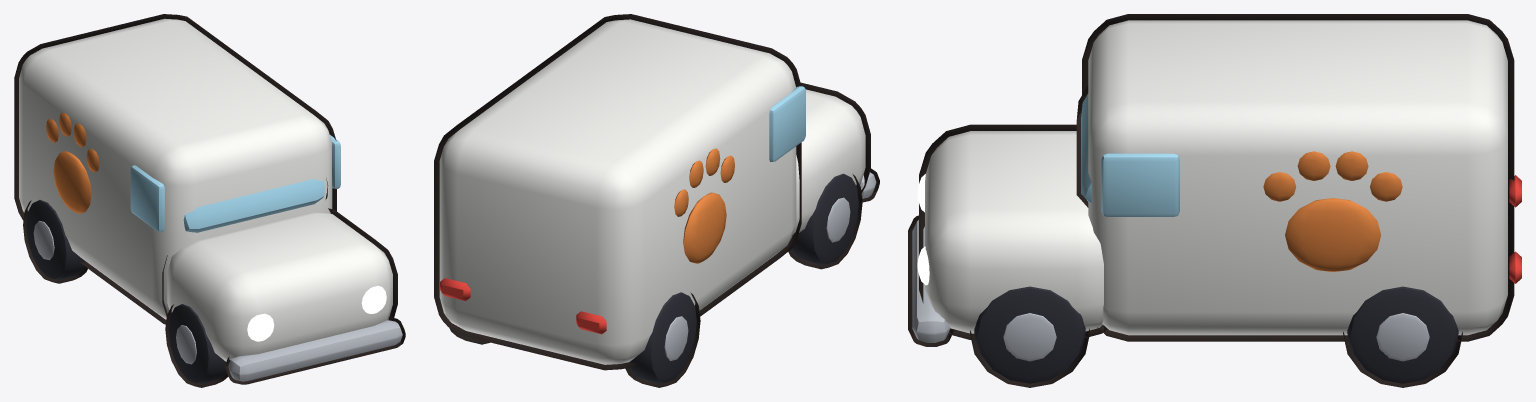
Rendered from Van_Delivery.fbx.
The picture shows the model from 3 angles, left to right: view 1: azimuth 30°, elevation 25°; view 2: azimuth 150°, elevation 25°; view 3: azimuth 270°, elevation 25°; orthographic projection. The views are drawn at different scales.
Visible parts, largest first — view 1: VH_Van_Delivery_White, VH_Van_Delivery_Outline, VH_Van_Delivery_Window, VH_Van_Delivery_MetalLight, VH_Van_Delivery_Black, VH_Van_Delivery_RoofOrange, VH_Van_Delivery_LampWarm; view 2: VH_Van_Delivery_White, VH_Van_Delivery_Outline, VH_Van_Delivery_Black, VH_Van_Delivery_RoofOrange, VH_Van_Delivery_Window, VH_Van_Delivery_MetalLight, VH_Van_Delivery_Red; view 3: VH_Van_Delivery_White, VH_Van_Delivery_Black, VH_Van_Delivery_Outline, VH_Van_Delivery_RoofOrange, VH_Van_Delivery_Window, VH_Van_Delivery_MetalLight, VH_Van_Delivery_Red, VH_Van_Delivery_LampWarm.
Part boxes in pixels (x1,y1,x2,y2): VH_Van_Delivery_White: (19,18,392,361); VH_Van_Delivery_Outline: (14,14,405,387); VH_Van_Delivery_Window: (130,135,340,232); VH_Van_Delivery_MetalLight: (33,221,402,381); VH_Van_Delivery_Black: (26,200,226,384); VH_Van_Delivery_RoofOrange: (46,112,99,213); VH_Van_Delivery_LampWarm: (247,285,386,341); VH_Van_Delivery_White: (439,19,865,364); VH_Van_Delivery_Outline: (434,14,879,387); VH_Van_Delivery_Black: (459,173,858,383); VH_Van_Delivery_RoofOrange: (674,148,734,263); VH_Van_Delivery_Window: (769,86,805,161); VH_Van_Delivery_MetalLight: (664,172,876,360); VH_Van_Delivery_Red: (440,278,606,334); VH_Van_Delivery_White: (925,20,1507,335); VH_Van_Delivery_Black: (974,286,1458,383); VH_Van_Delivery_Outline: (908,14,1514,387); VH_Van_Delivery_RoofOrange: (1263,151,1402,272); VH_Van_Delivery_Window: (1081,93,1179,216); VH_Van_Delivery_MetalLight: (912,220,1429,361); VH_Van_Delivery_Red: (1509,175,1521,283); VH_Van_Delivery_LampWarm: (917,174,929,285).
Bounding box in the file's own units: 2.29 × 2.4 × 4.84.
